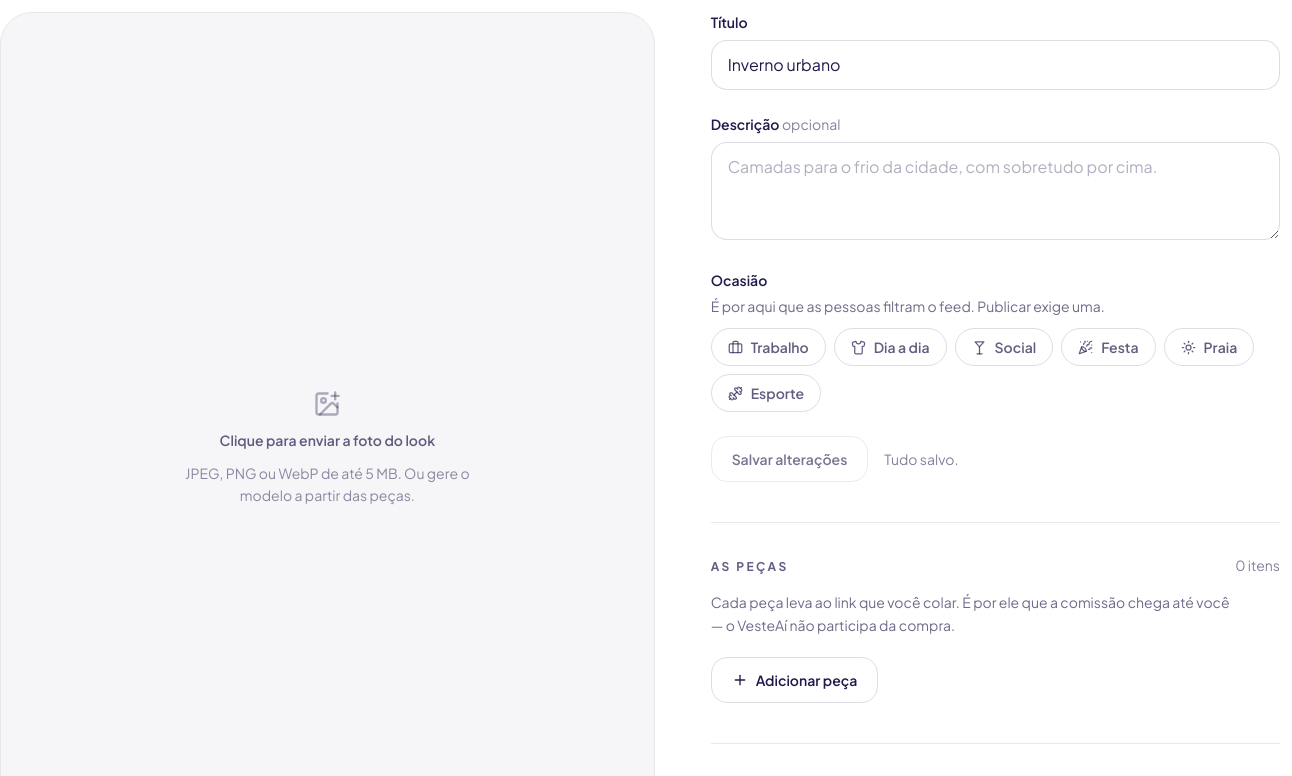
Test case: editor de look › descarta a alteração e volta ao que estava salvo
Step 1. Type " noturno" into the field labelled "Título" → (995, 65), box [711, 40, 1280, 90]
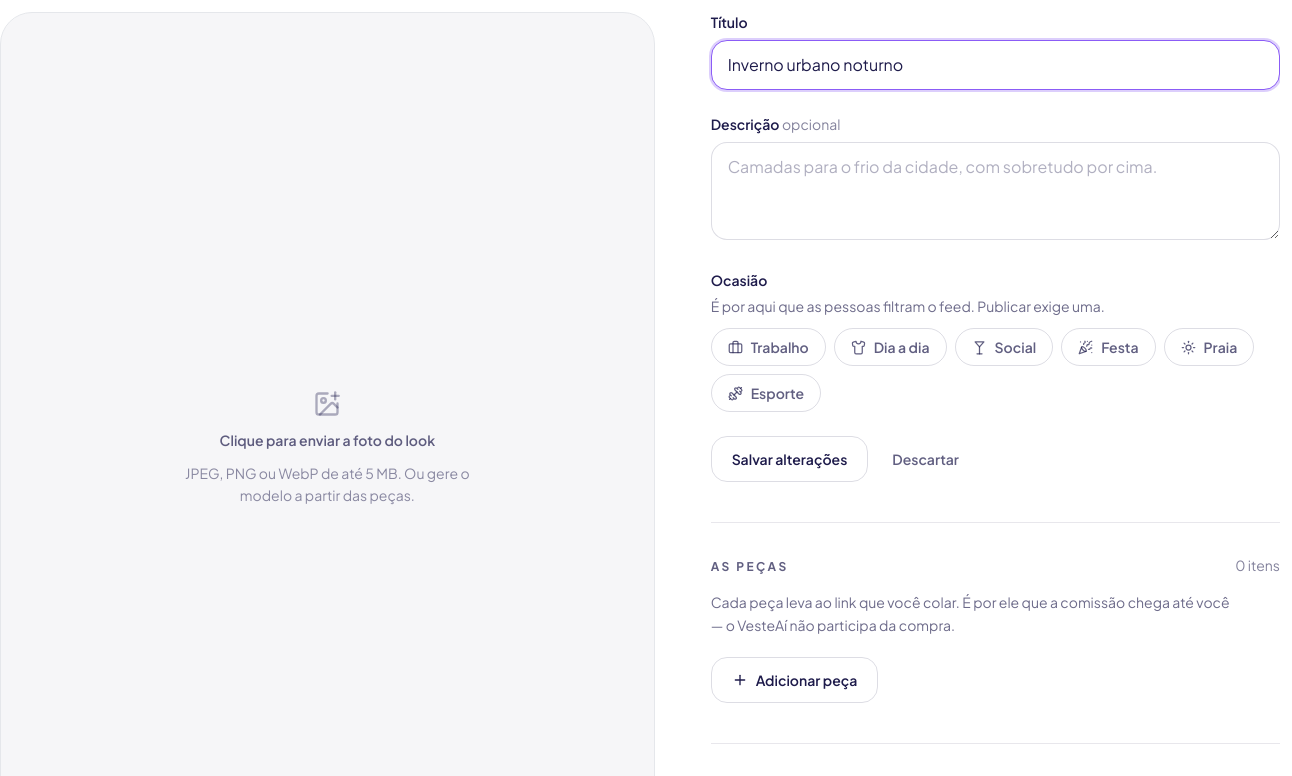
Step 2. Click the button "Descartar" → click(926, 459), box [876, 437, 975, 481]
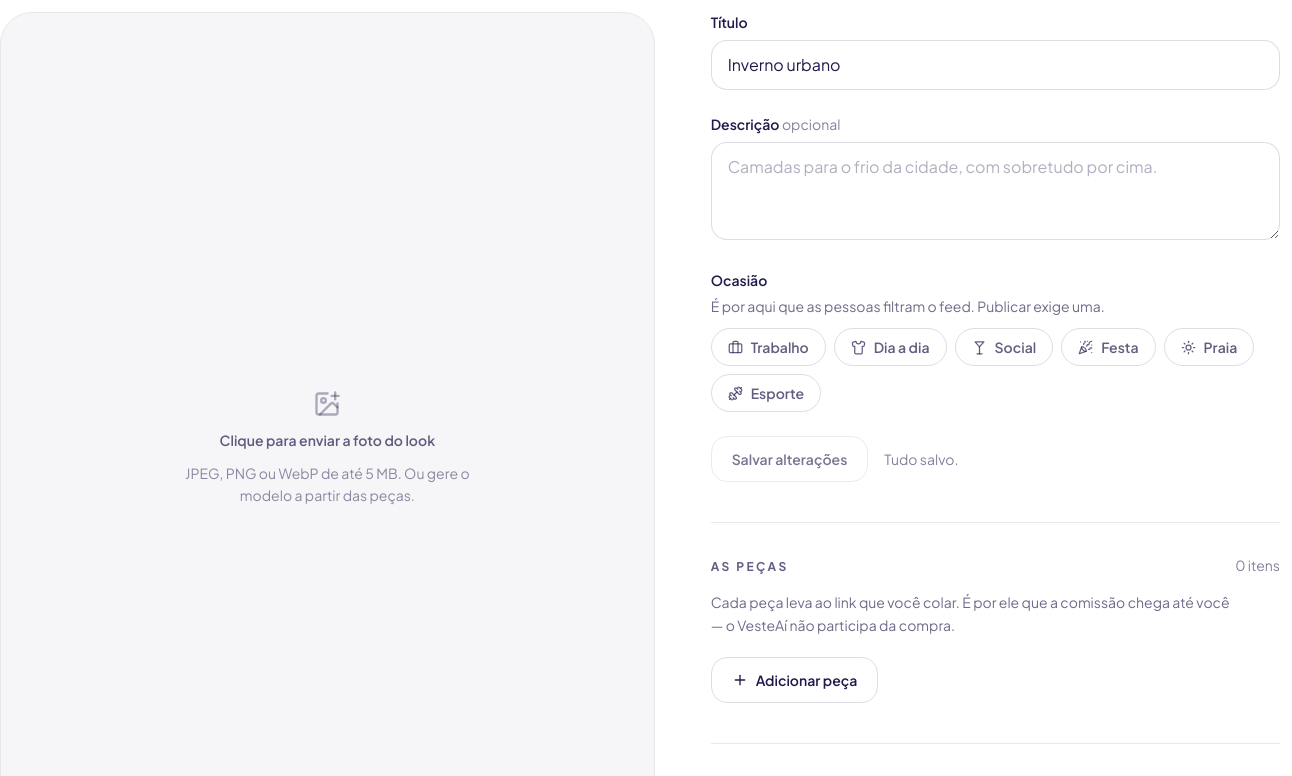
Check: the field labelled "Título" holds "Inverno urbano", box [711, 40, 1280, 90]
